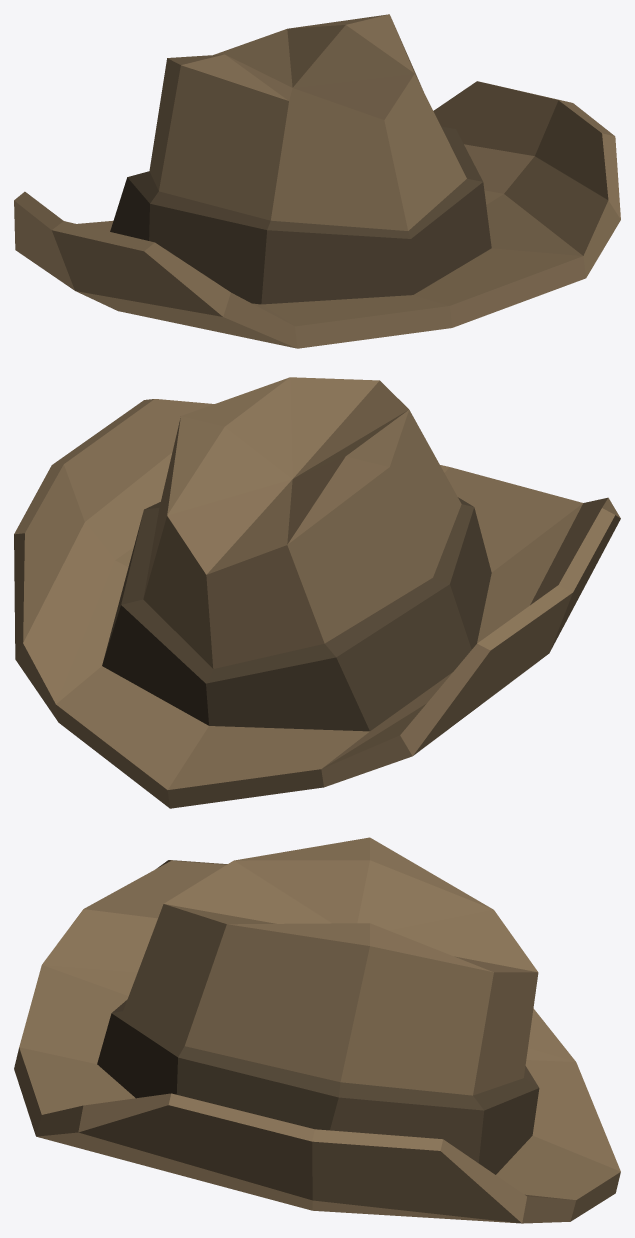
Rendered from SM_Chr_Attach_CowboyHat_01.fbx.
The picture shows the model from 3 angles, top to bottom: view 1: azimuth 30°, elevation 25°; view 2: azimuth 150°, elevation 25°; view 3: azimuth 270°, elevation 25°; orthographic projection. The views are drawn at different scales.
Parts seen in each view (by area): view 1: SM_Chr_Attach_CowboyHat_01; view 2: SM_Chr_Attach_CowboyHat_01; view 3: SM_Chr_Attach_CowboyHat_01.
Part boxes in pixels (<box>): SM_Chr_Attach_CowboyHat_01: <box>14,14,620,348</box>; SM_Chr_Attach_CowboyHat_01: <box>14,377,620,808</box>; SM_Chr_Attach_CowboyHat_01: <box>14,837,620,1223</box>.
Size of the model in its own units: 50.85 by 26.36 by 48.07.
